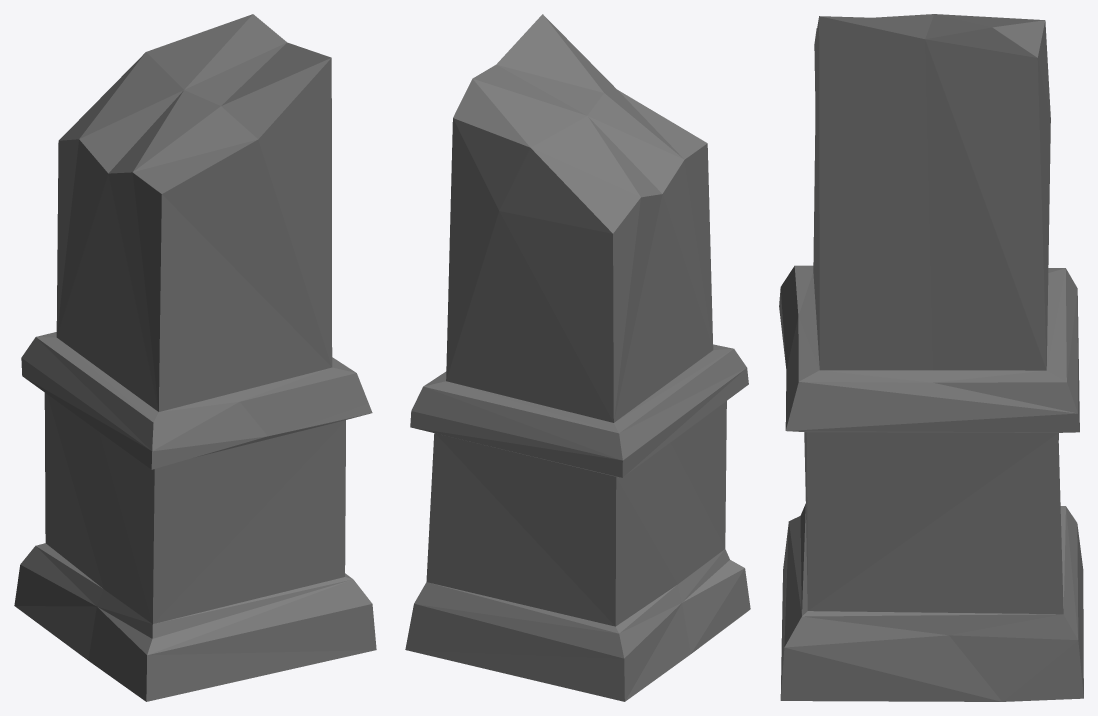
Rendered from Ruins_01.fbx.
3 views of the same model, side by side, from view 1: azimuth 30°, elevation 25°; view 2: azimuth 150°, elevation 25°; view 3: azimuth 270°, elevation 25° (orthographic). The views are drawn at different scales.
Parts seen in each view (by area): view 1: Ruins_01; view 2: Ruins_01; view 3: Ruins_01.
Boxes of the visible parts, box(x1,y1,x2,y2) form: Ruins_01: box(14, 14, 376, 701); Ruins_01: box(405, 14, 750, 701); Ruins_01: box(779, 14, 1083, 701).
Size of the model in its own units: 0.9363 by 2.29 by 0.9426.
